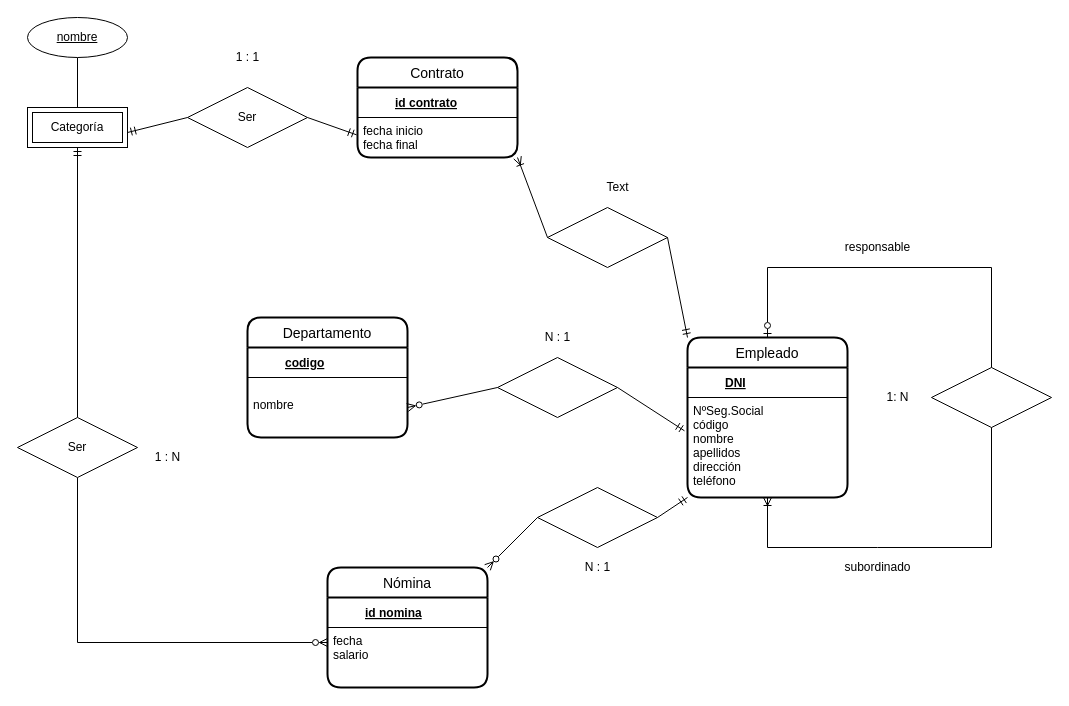
The diagram is 1069 pixels wide and 706 high, and some of its shapes have lost their labels. Here are the shapes that lost their labels. From the top down, the centre of each, then its label:
[607,237]: Firmar
[557,387]: Coordinar
[991,397]: Tener
[597,517]: Recibir
